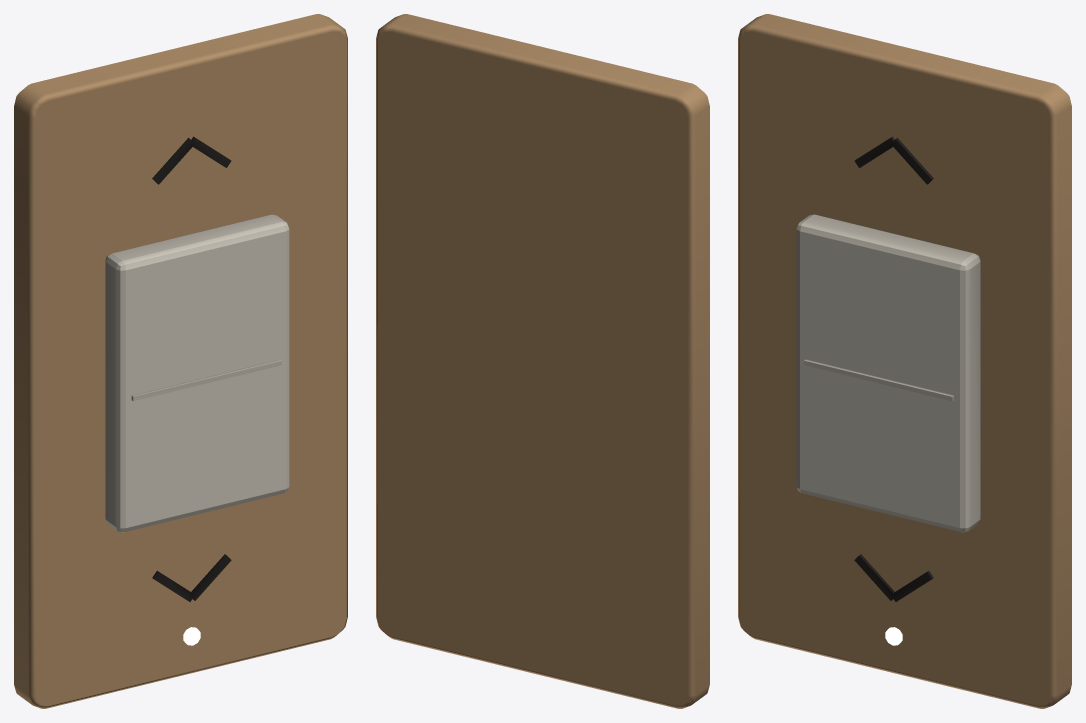
File: ix_switch_blinds.gltf
3 views of the same model, side by side, from view 1: azimuth 30°, elevation 25°; view 2: azimuth 150°, elevation 25°; view 3: azimuth 330°, elevation 25° (orthographic).
Visible parts, largest first — view 1: IX_SwitchBlinds_Plate, IX_SwitchBlinds_Rocker_Paddle, IX_SwitchBlinds_Plate_Marks; view 2: IX_SwitchBlinds_Plate; view 3: IX_SwitchBlinds_Plate, IX_SwitchBlinds_Rocker_Paddle, IX_SwitchBlinds_Plate_Marks.
Part boxes in pixels (x1=…): IX_SwitchBlinds_Plate: x1=14, y1=14, x2=347, y2=708; IX_SwitchBlinds_Rocker_Paddle: x1=105, y1=214, x2=289, y2=532; IX_SwitchBlinds_Plate_Marks: x1=152, y1=136, x2=231, y2=601; IX_SwitchBlinds_Plate: x1=376, y1=14, x2=709, y2=708; IX_SwitchBlinds_Plate: x1=738, y1=14, x2=1071, y2=708; IX_SwitchBlinds_Rocker_Paddle: x1=796, y1=214, x2=980, y2=532; IX_SwitchBlinds_Plate_Marks: x1=854, y1=136, x2=933, y2=601.
Size of the model in its own units: 0.074 by 0.136 by 0.0147.
